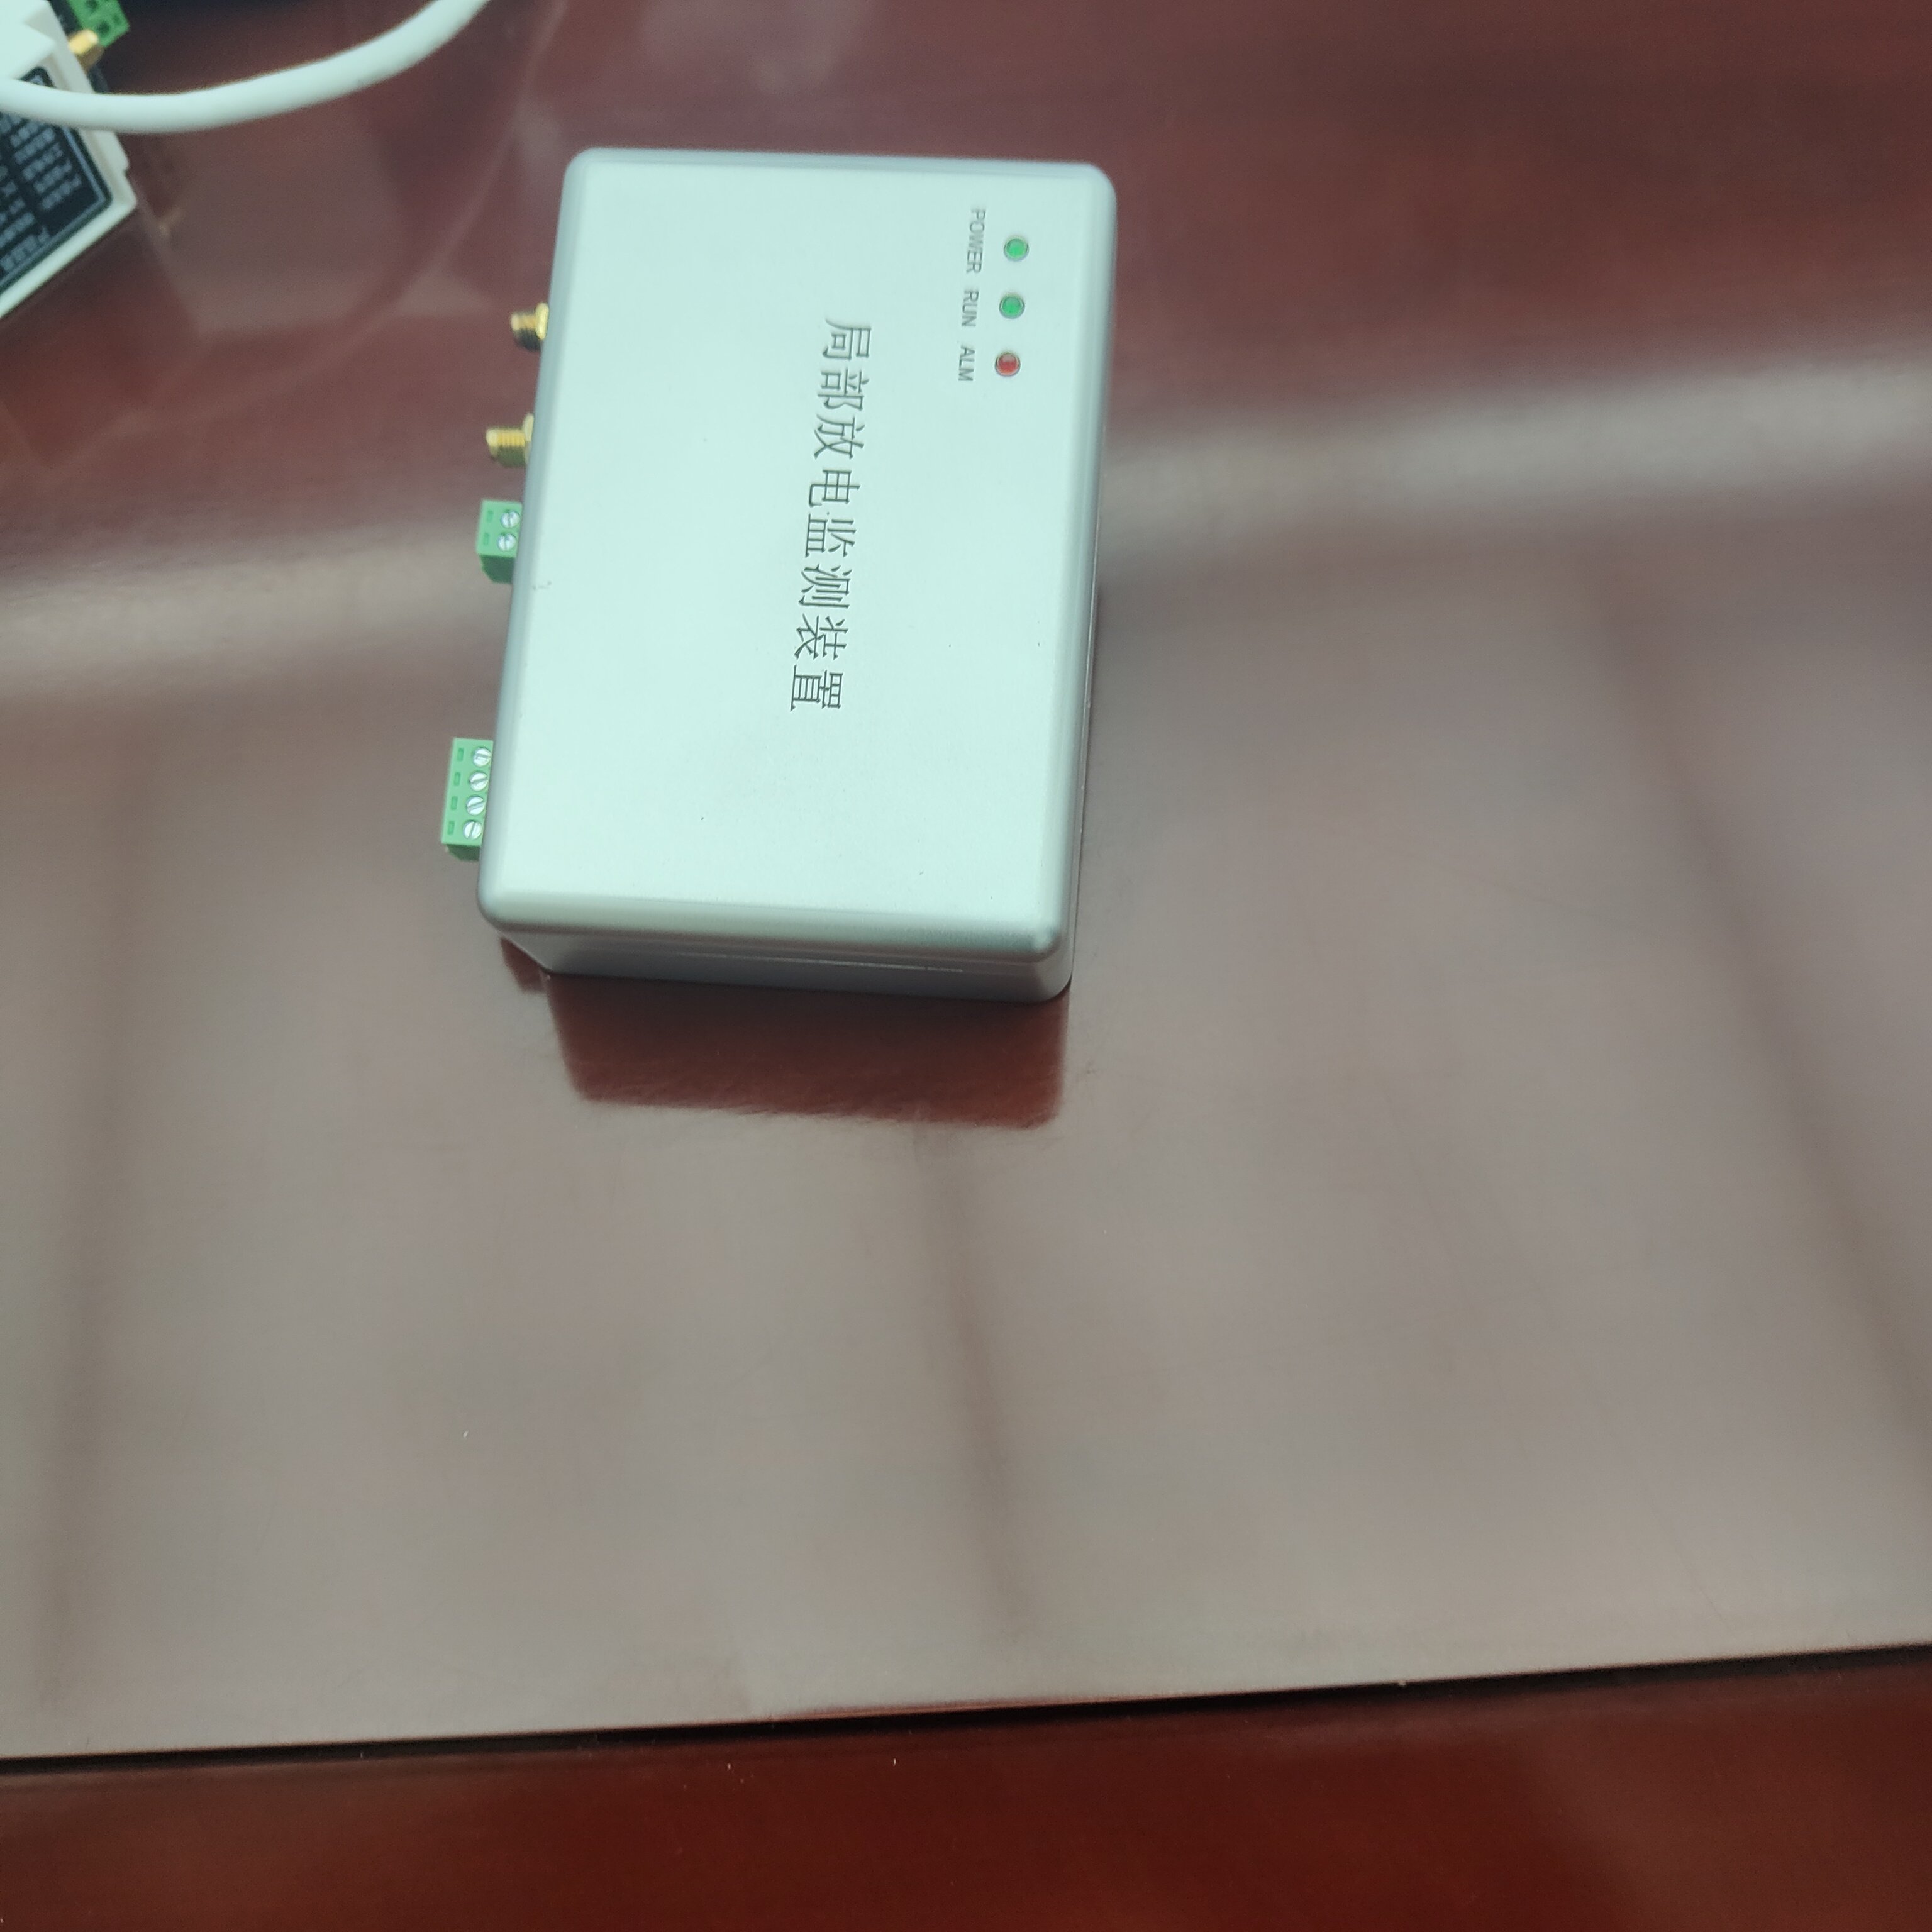jbfdjc: (428, 101, 1143, 1039)
